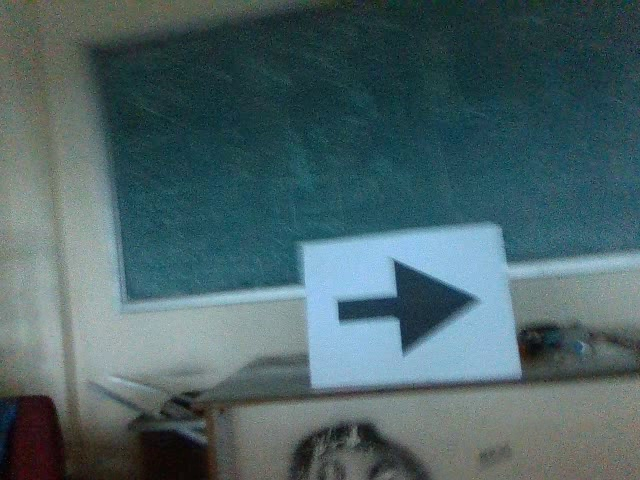Right: (330, 255, 491, 360)
